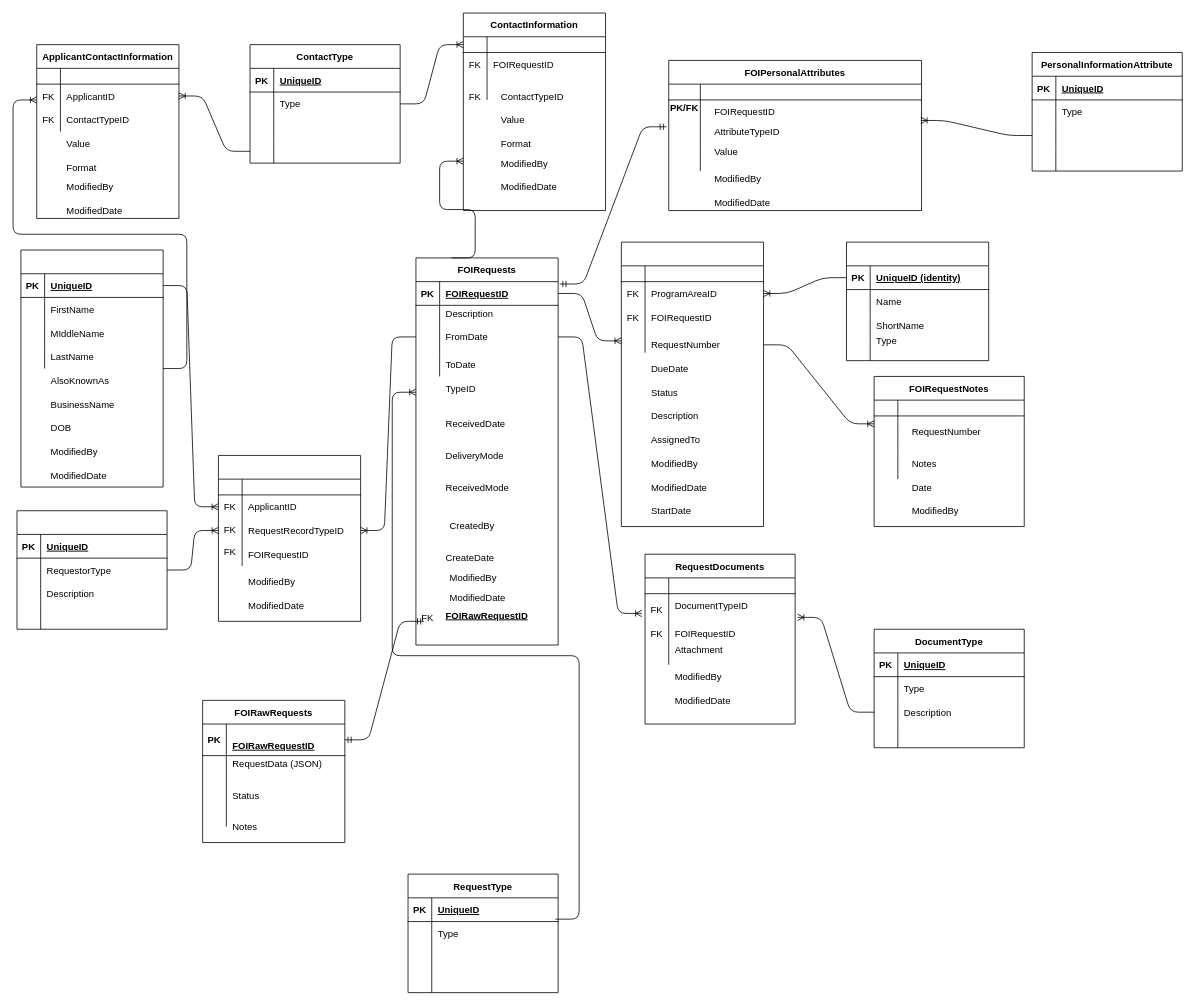
Some shapes in this 1195 by 1006 pixel diagram are drawn without their labels. The shapes that lost their labels are listed below. From the top down, each one's box as (x1, y1, x2, y2) in pixels, then its label:
(846, 241, 989, 361): ProgramAreas
(20, 249, 163, 487): Applicant
(621, 241, 764, 527): FOIRequestMinistries
(218, 455, 361, 621): ApplicantRequestRecords
(16, 510, 167, 629): FOIRequestorType
